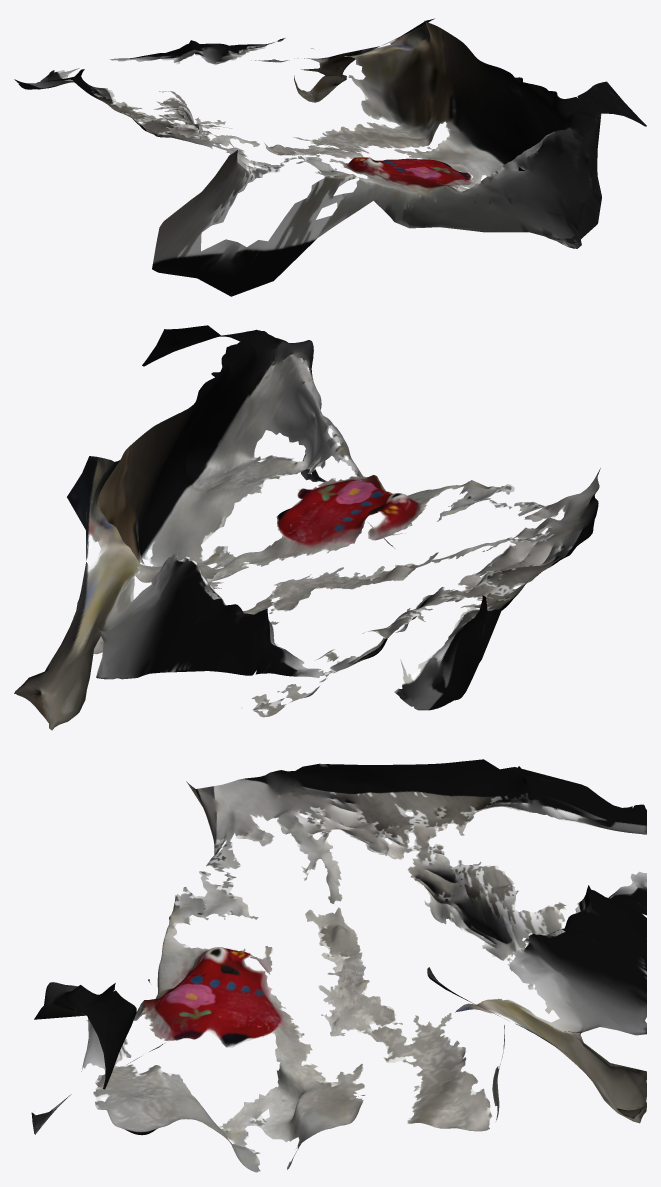
3 views of the same model, one above another, from view 1: azimuth 30°, elevation 25°; view 2: azimuth 150°, elevation 25°; view 3: azimuth 270°, elevation 25° (orthographic). The views are drawn at different scales.
Size of the model in its own units: 0.9064 by 0.3393 by 0.8652.
1 material, 1 textured.
